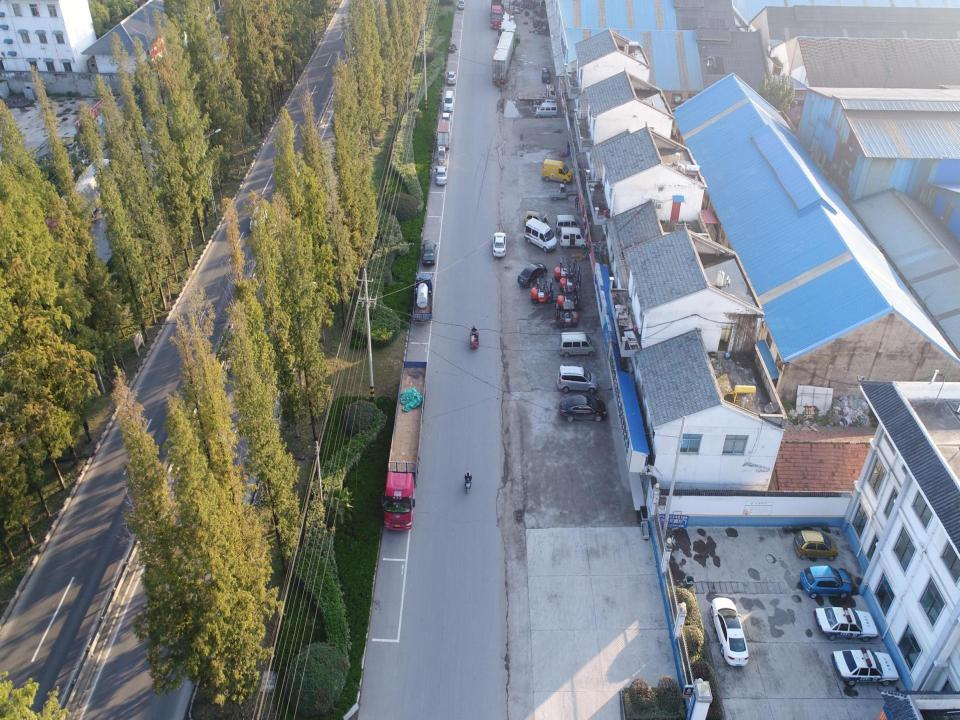car: (829, 644, 903, 687), (710, 596, 751, 668), (813, 600, 879, 642), (798, 563, 856, 602), (555, 392, 609, 429), (553, 359, 600, 395), (791, 529, 841, 562), (555, 331, 598, 360), (517, 260, 548, 288), (244, 200, 270, 229), (522, 208, 552, 230), (419, 234, 436, 266), (492, 228, 508, 256), (433, 163, 447, 186), (443, 88, 453, 112), (439, 112, 452, 130), (445, 68, 457, 85), (539, 66, 551, 82), (457, 0, 466, 12)
truck: (383, 351, 431, 538), (491, 26, 521, 84), (410, 266, 437, 322), (518, 85, 558, 105), (490, 0, 504, 31), (530, 94, 556, 108)
van: (524, 218, 558, 255), (540, 156, 574, 184), (560, 226, 587, 248), (554, 214, 582, 235), (534, 101, 558, 119)
